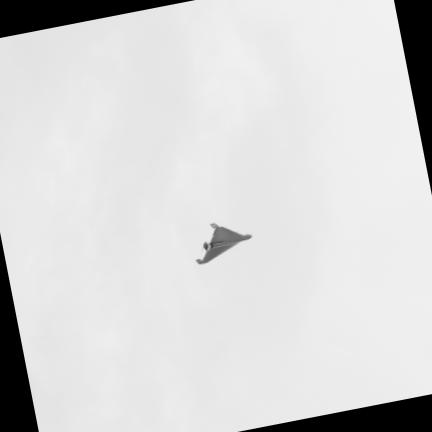Shahed: (196, 225, 250, 265)
